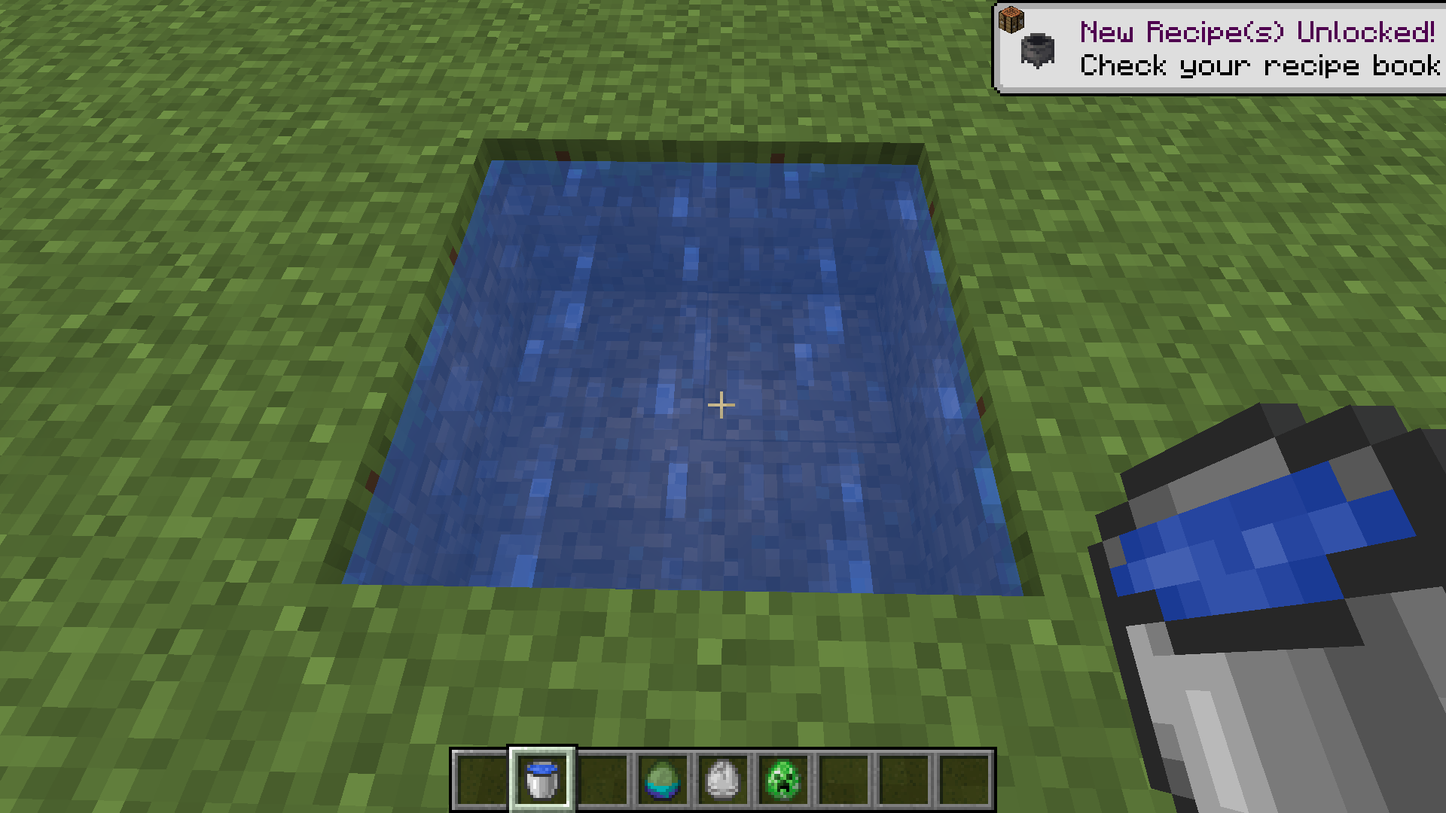water: (355, 164, 1022, 590)
